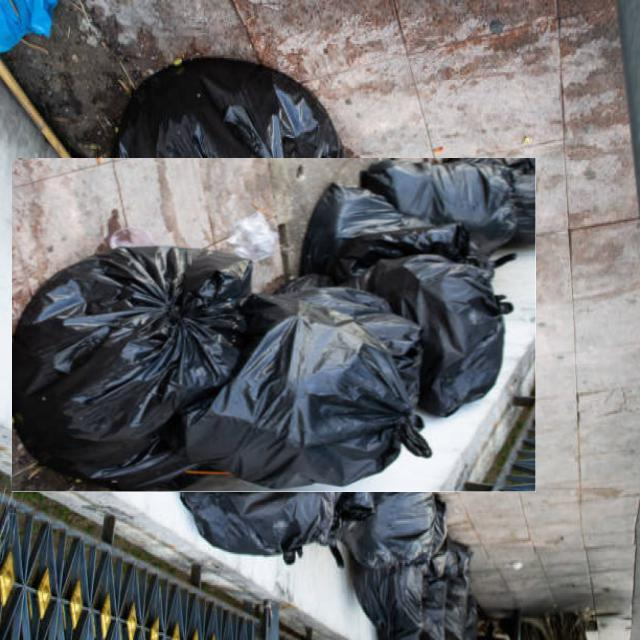Trashbag: (25, 254, 234, 472), (183, 313, 402, 487), (398, 257, 502, 424), (184, 472, 333, 559), (295, 188, 412, 286), (396, 161, 521, 248), (346, 475, 449, 568)
